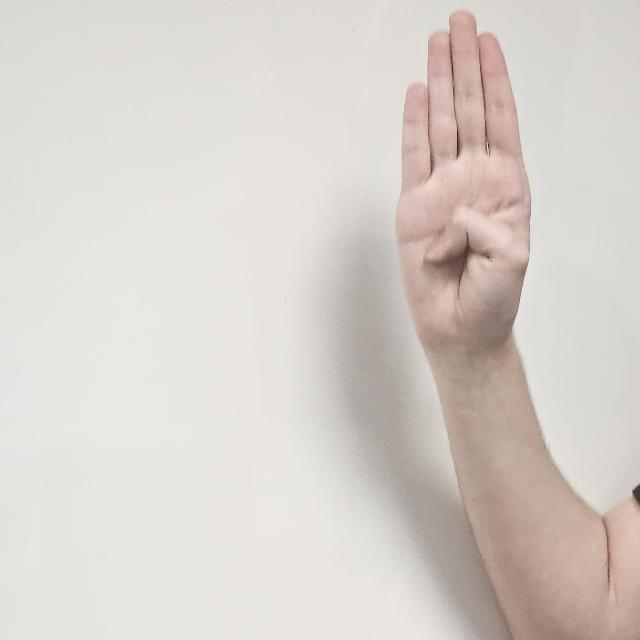Baixo: (402, 9, 536, 352)
